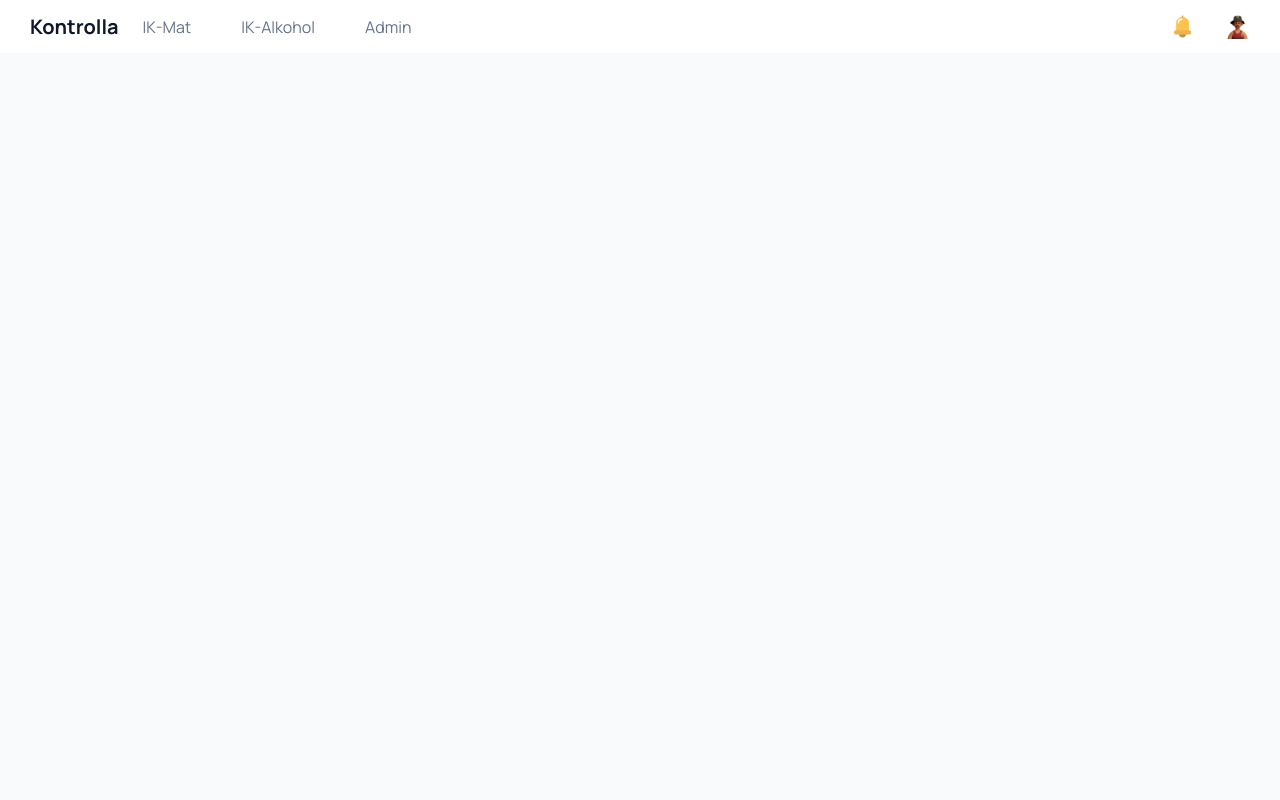
Test: TopBar overlay integration › renders the profile popup support action as a mailto link
The image size is (1280, 800).
Click the button named "User menu" at (1238, 26), box [1225,14,1250,39]
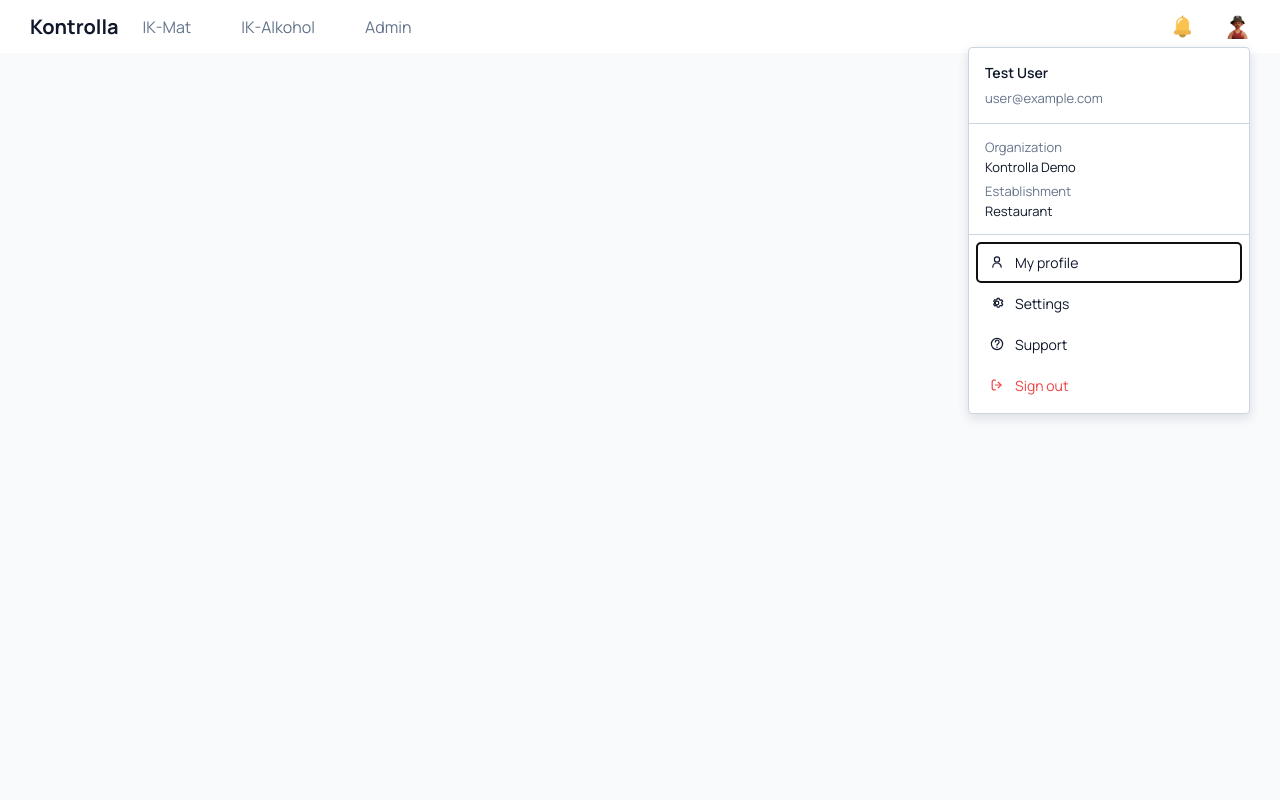
Expected: the link "Support" is shown, [989,334,1068,354]
Expected: the text "Support" is shown, [1015,334,1068,354]
